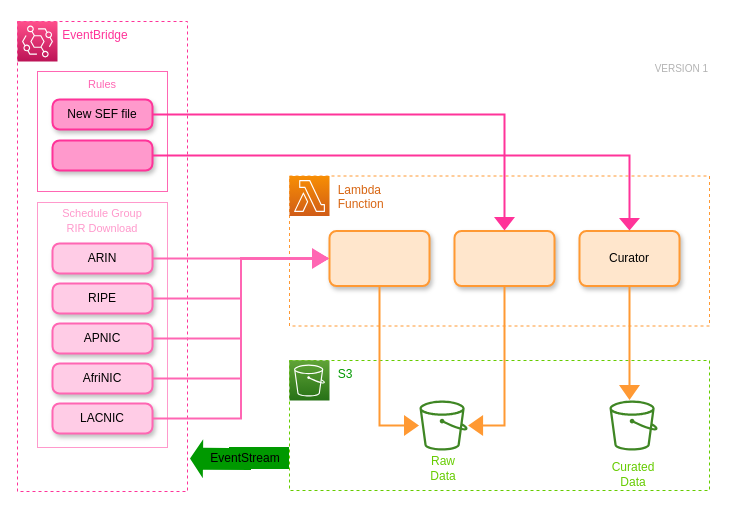
This 733x526 diagram has some shape labels left out. Here are the shapes that lost their labels. From the top down, the centre of each, then its label:
the point at 103,156: New parsed file
the point at 380,260: Downloader
the point at 505,260: Parser
